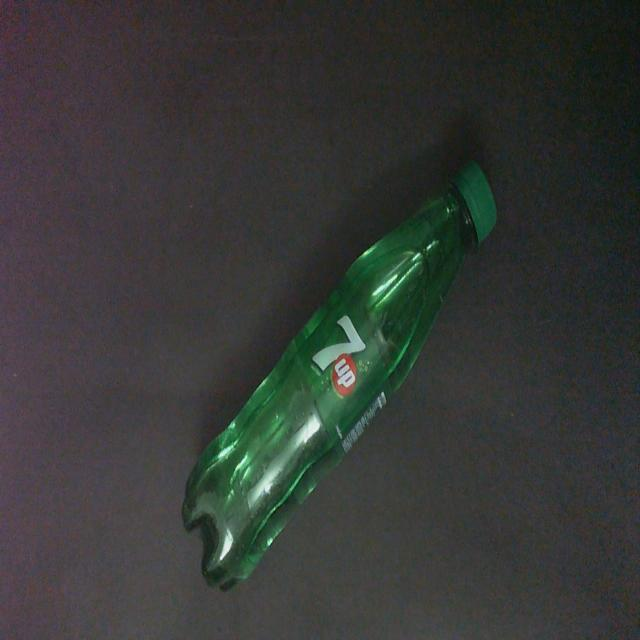non-defect: (180, 153, 500, 598)
